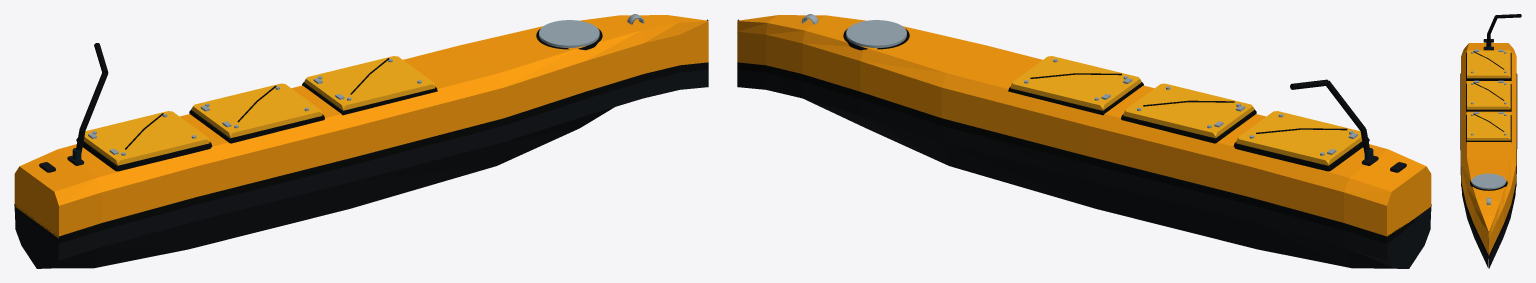
File: hull_port.dae
3 renders of one model, left to right at view 1: azimuth 30°, elevation 25°; view 2: azimuth 150°, elevation 25°; view 3: azimuth 270°, elevation 25°, orthographic. The views are drawn at different scales.
Visible parts, largest first — view 1: node1, node0, node3, node2, node4; view 2: node1, node0, node3, node2, node4; view 3: node1, node3, node2, node4, node0.
Part boxes in pixels (x1,y1,x2,y2): node1: (14, 15, 708, 238); node0: (14, 19, 708, 268); node3: (83, 56, 435, 165); node2: (14, 28, 708, 243); node4: (88, 14, 644, 155); node1: (737, 15, 1431, 236); node0: (737, 19, 1431, 268); node3: (1010, 56, 1362, 165); node2: (737, 28, 1431, 243); node4: (801, 14, 1357, 155); node1: (1461, 43, 1516, 255); node3: (1467, 50, 1510, 140); node2: (1460, 14, 1521, 258); node4: (1471, 49, 1506, 204); node0: (1461, 39, 1515, 268).
Size of the model in its own units: 2.5 by 0.3487 by 0.6998.
